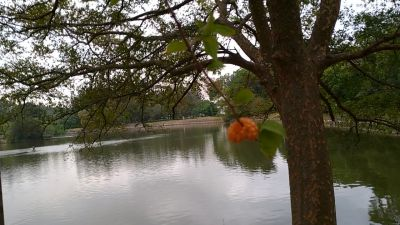eggs: (226, 117, 259, 146)
